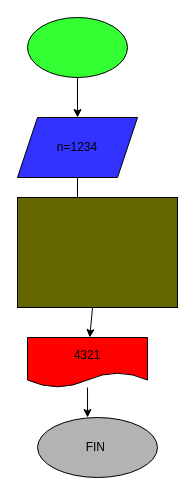
Some shapes in this 195 by 495 pixel diagram are drawn without their labels. Each missing label, with the box of its shape:
d1=(n%10)*1000 pe=n/10 d2=(pe%10)*100 pe=pe-//10 d3=(pe%10)*10 d4=pe//10: (16, 196, 178, 308)
INICIO: (26, 16, 128, 78)
